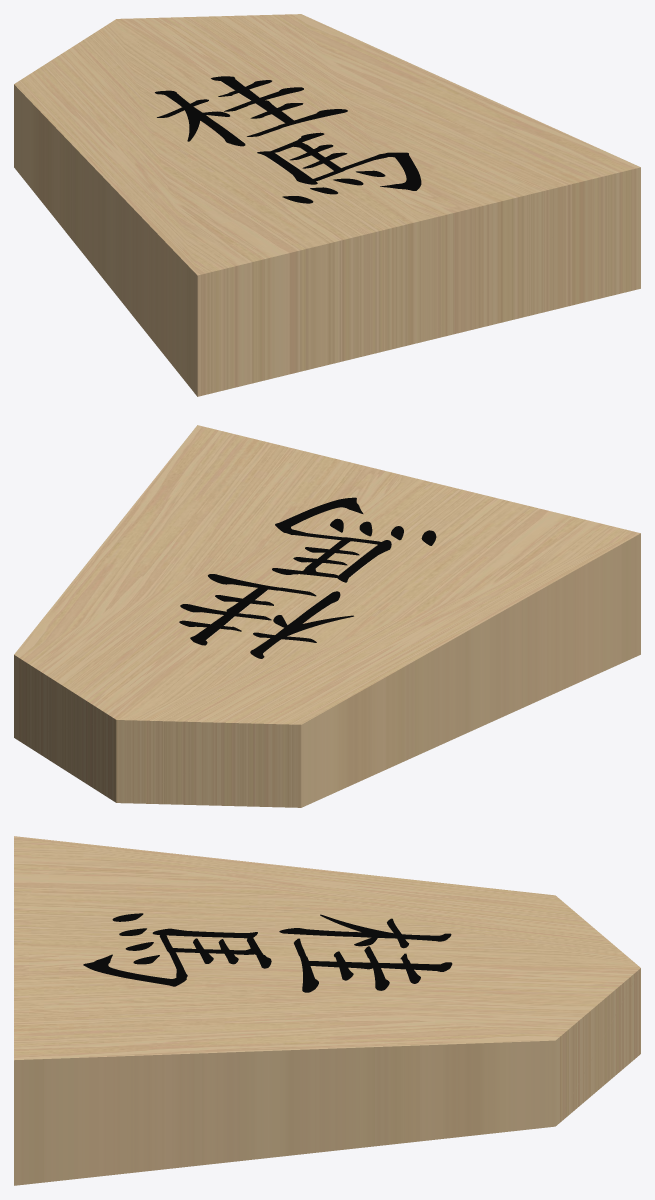
Rendered from keima.fbx.
3 renders of one model, top to bottom at view 1: azimuth 30°, elevation 25°; view 2: azimuth 150°, elevation 25°; view 3: azimuth 270°, elevation 25°, orthographic. The views are drawn at different scales.
Visible parts, largest first — view 1: keima.001; view 2: keima.001; view 3: keima.001.
Boxes of the visible parts, <box> form: keima.001: <box>14,14,640,396</box>; keima.001: <box>14,425,640,807</box>; keima.001: <box>14,836,640,1185</box>.
Size of the model in its own units: 388 by 101 by 458.
